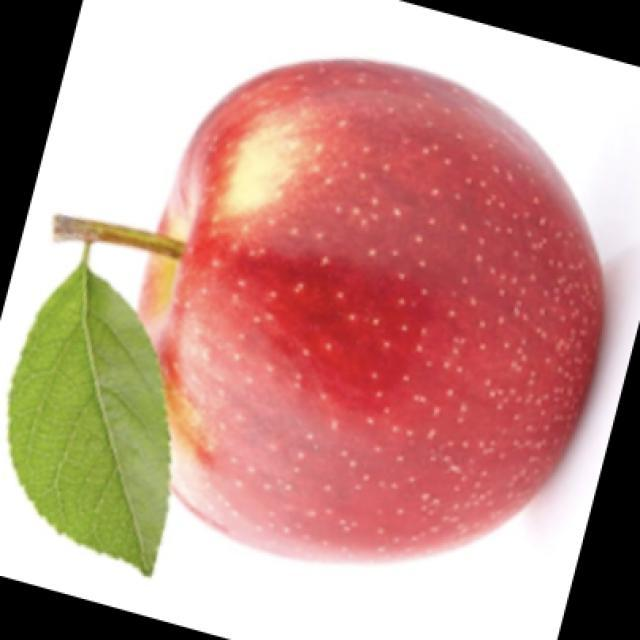Fresh Apple: (130, 73, 582, 590)
